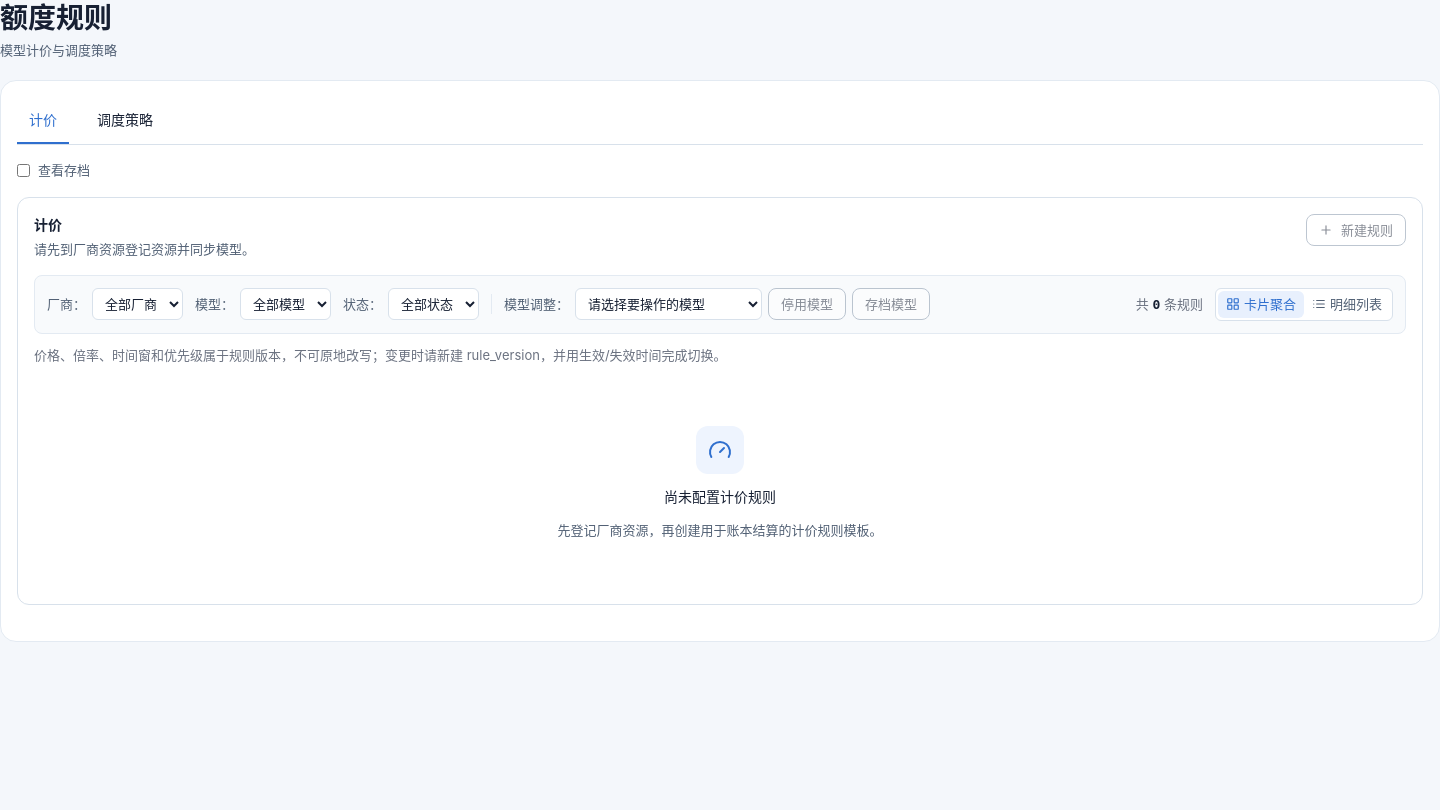
Test: 存档失败保留模型和对话框，不伪装为已隐藏
Select "Disabled（ql-disabled）" in the dropdown named "模型管理" at x=669, y=304, box left=575, top=288, right=762, bottom=320
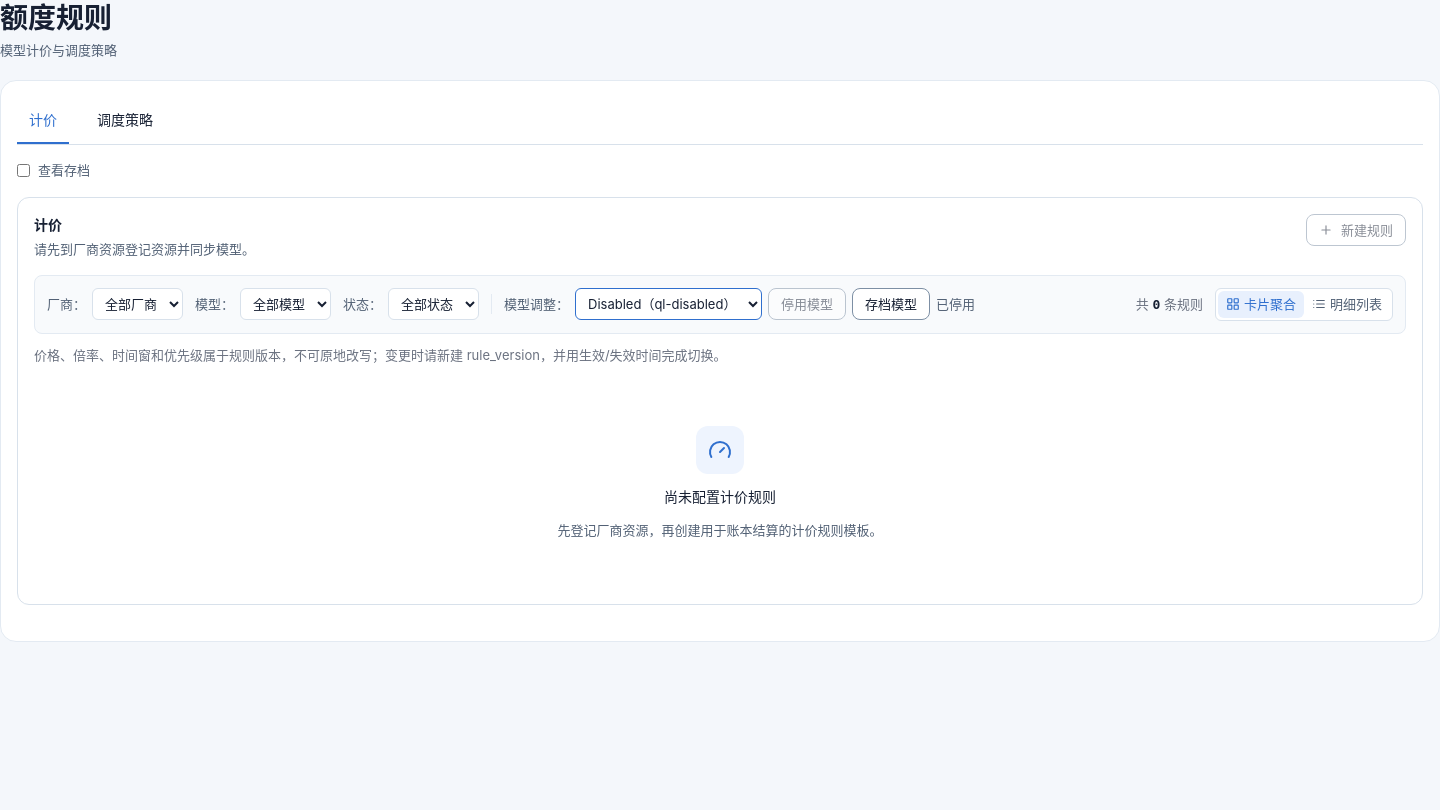
Click the button "存档模型" at x=891, y=304, box left=852, top=288, right=930, bottom=320
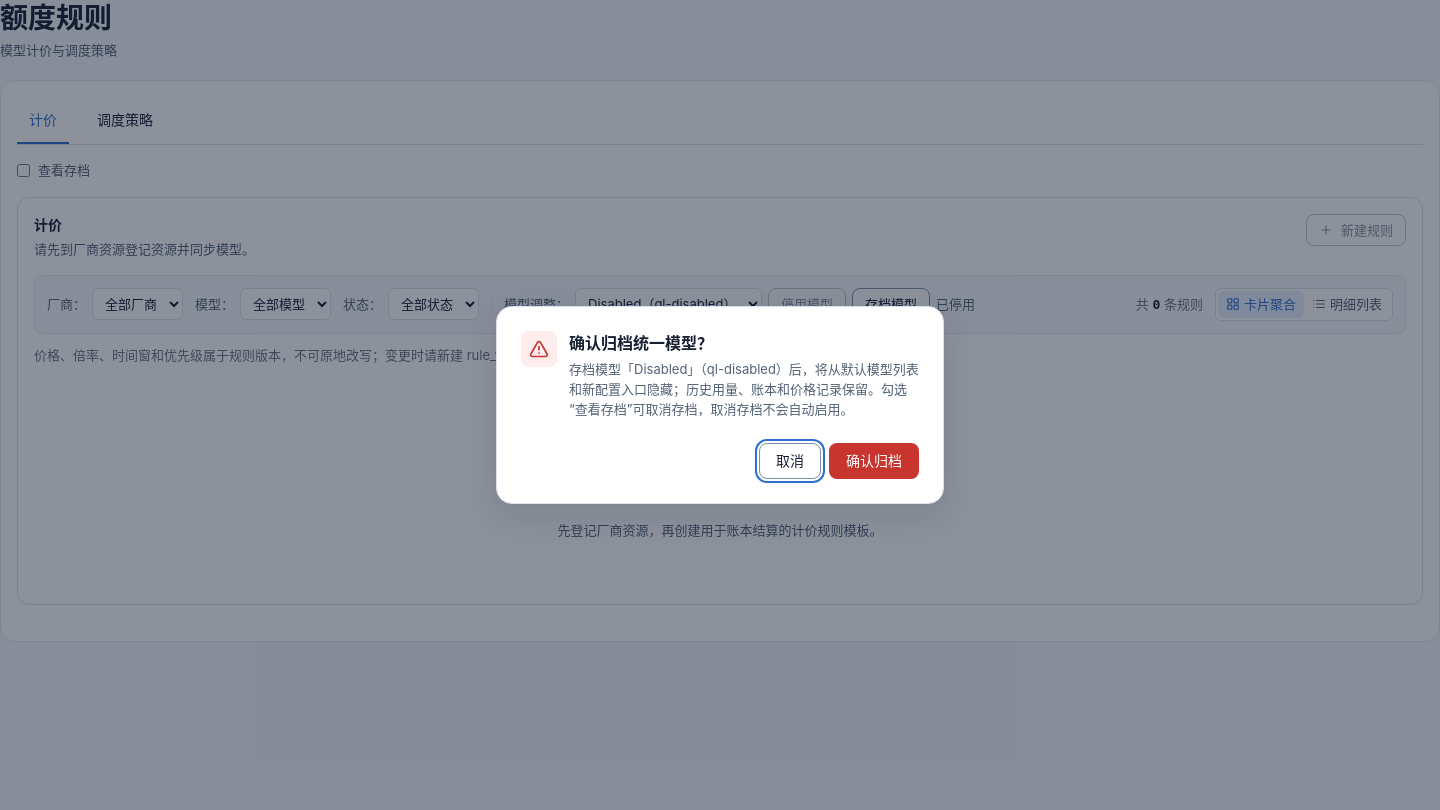
Click the button "确认归档" at x=874, y=461, box left=829, top=443, right=919, bottom=479
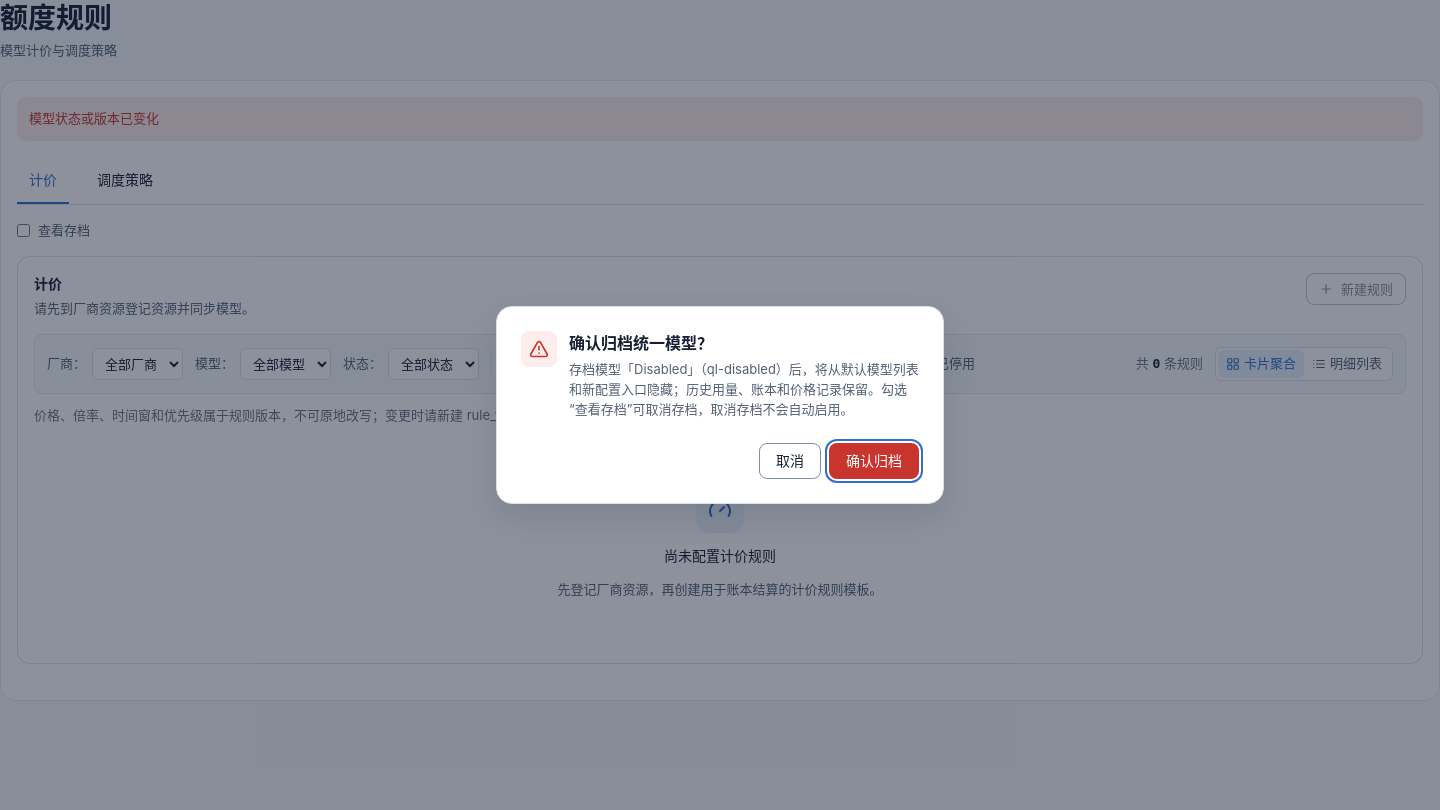
Result: the message "已停用" is shown at left=936, top=354, right=975, bottom=374
Result: the dialog is shown
Result: the text "模型状态或版本已变化" is shown at left=17, top=97, right=1423, bottom=140
